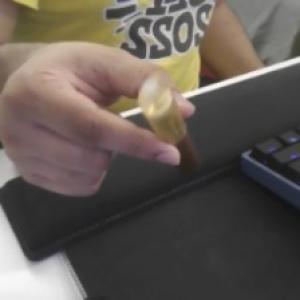Golden-E-Ciggirate: (136, 69, 208, 177)
